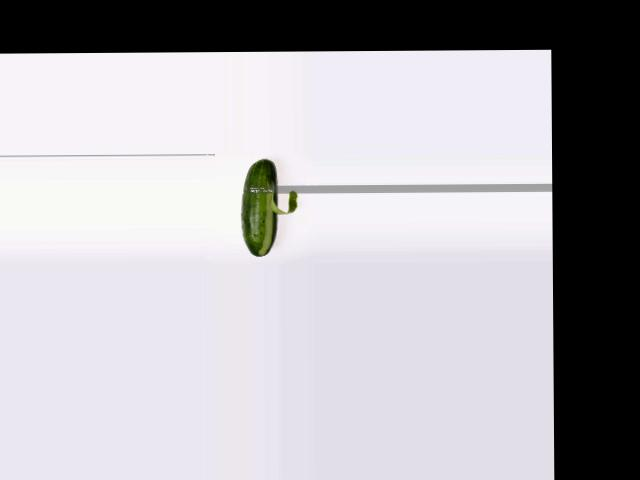cucumber: (241, 158, 279, 256)
